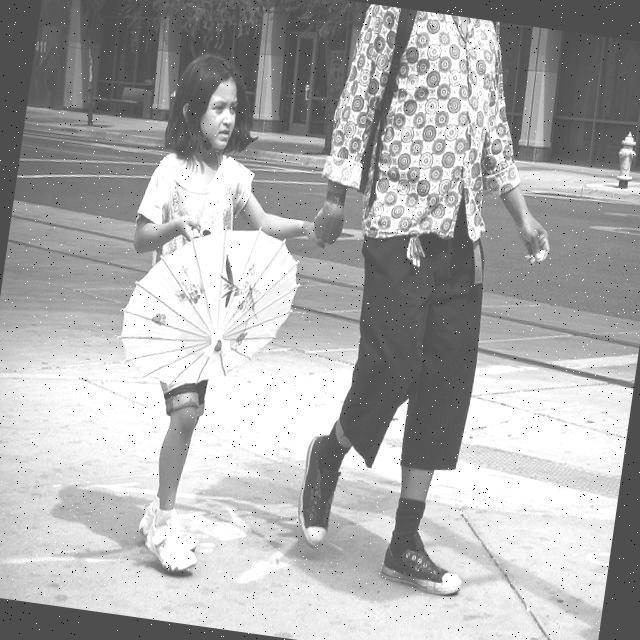fire_hydrant: (612, 129, 640, 189)
